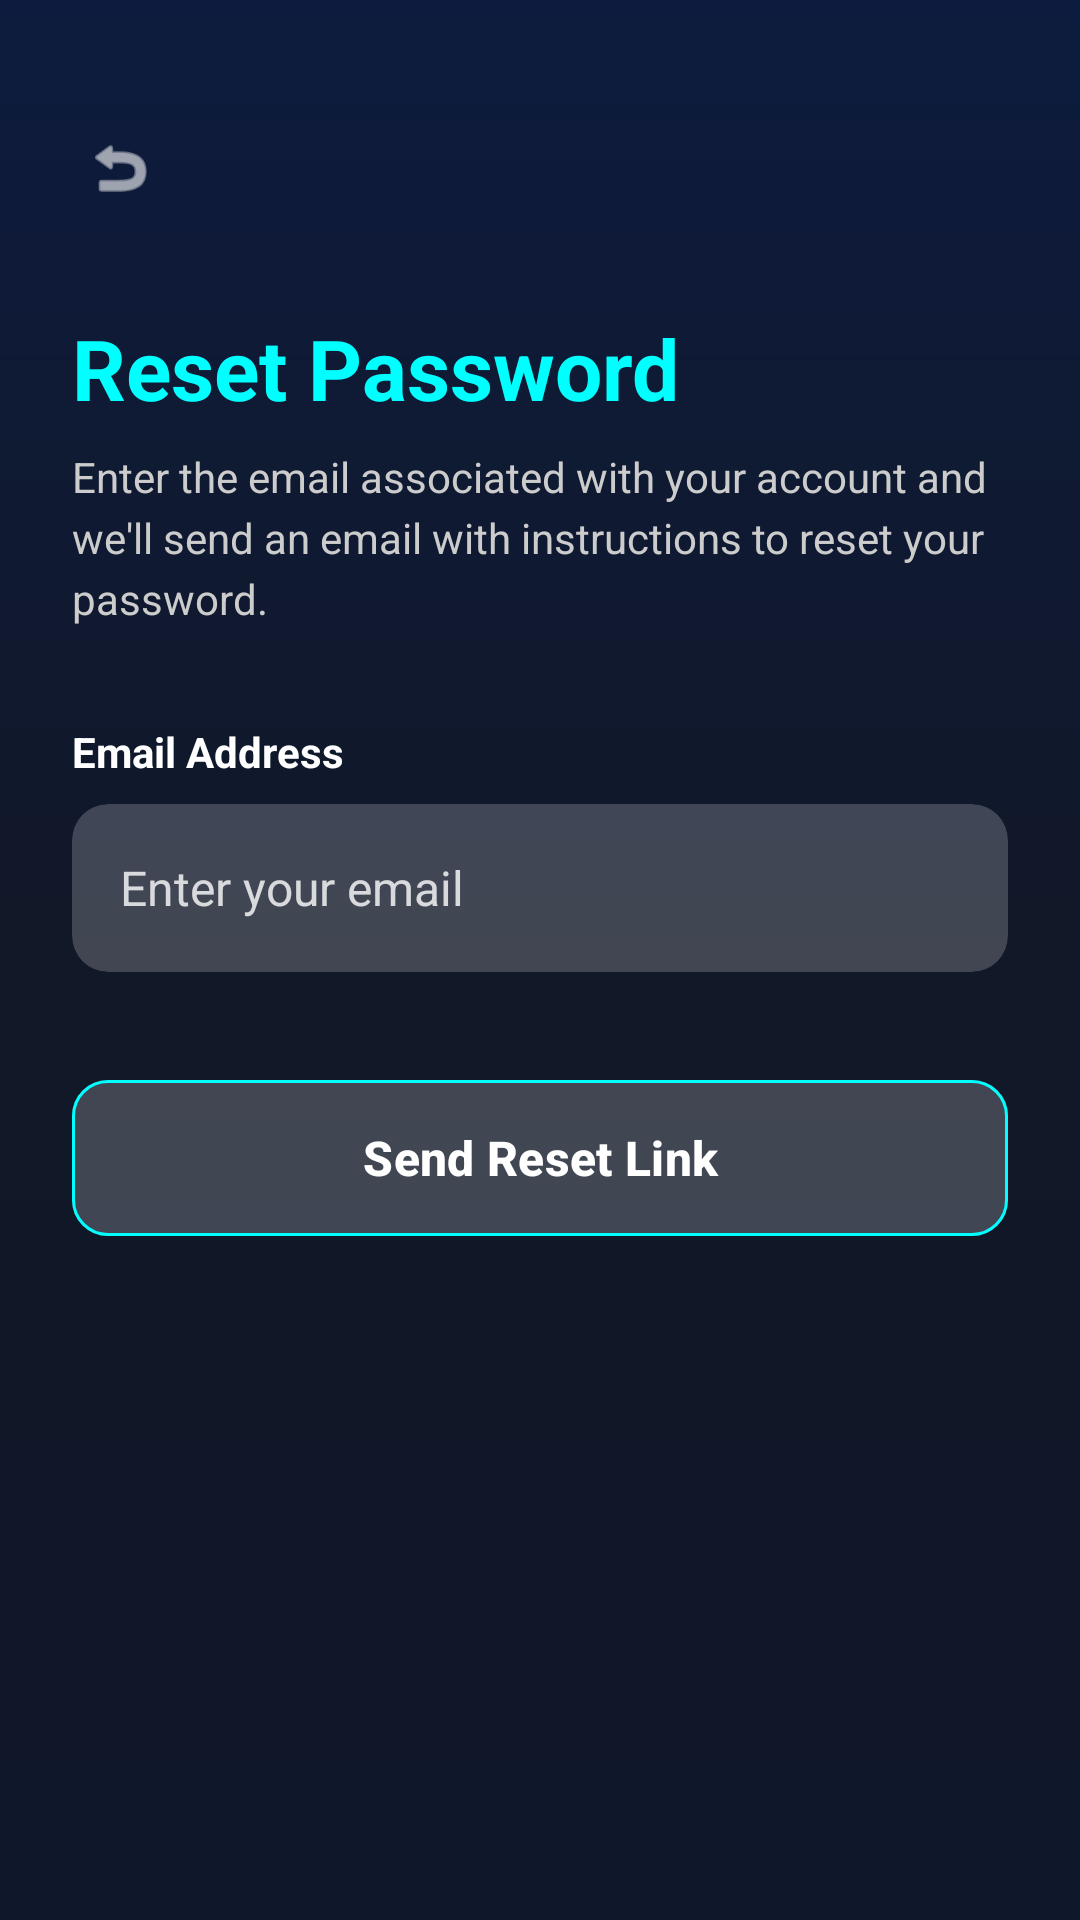

Named icons in this screenshot (1080 x 1920) and their centers, point (x, y):
revert: point (121, 168)
